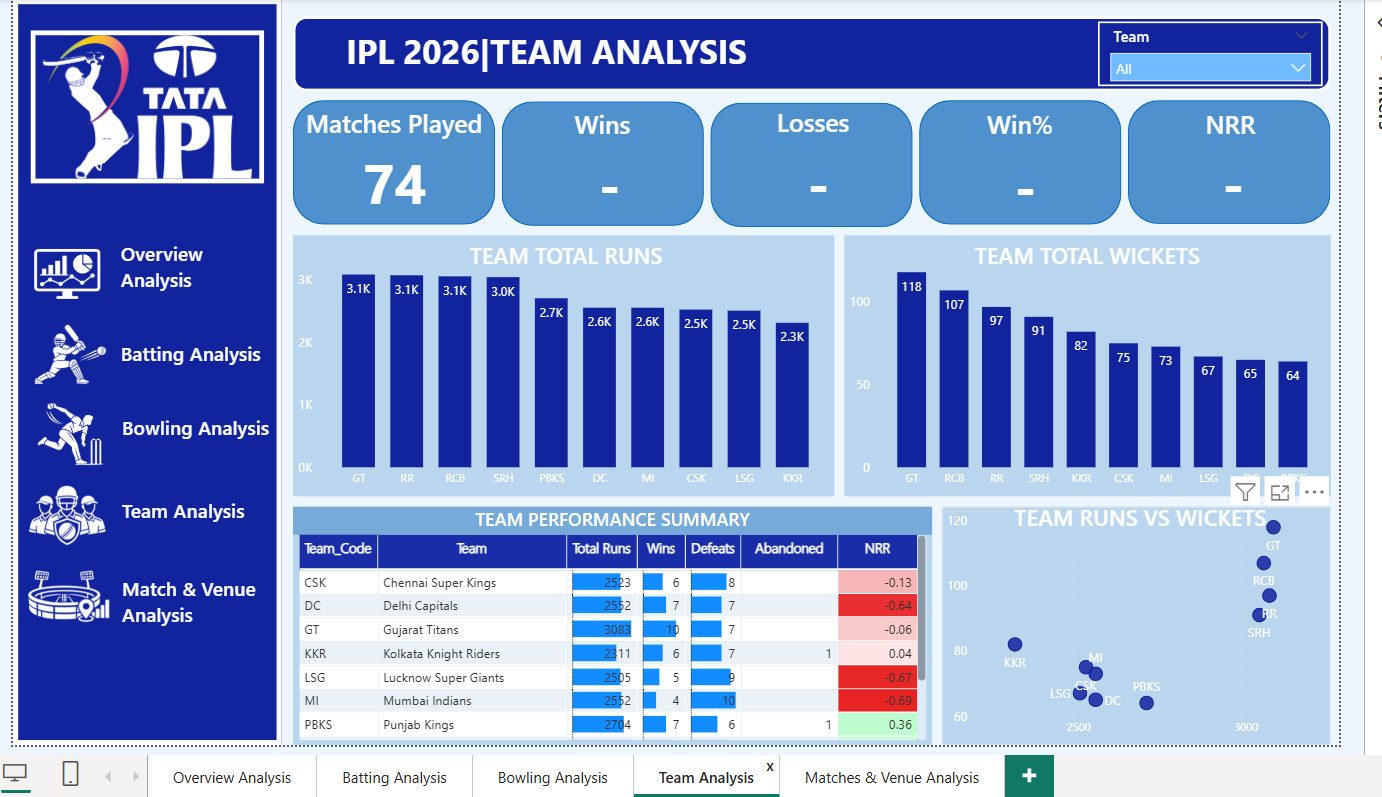

What the dashboard file says about the page in this screenshot:
{"tool":"powerbi","page":{"name":"Team Analysis","canvas":[1280,720],"ordinal":3},"visuals":[{"type":"textbox","box":[270.2,16.9,1001.3,72.4],"z":0},{"type":"shape","box":[270.2,97.7,195,120],"z":1000},{"type":"shape","box":[471.7,98.4,195,120],"z":2000},{"type":"shape","box":[673.2,99.7,195,120],"z":3000},{"type":"shape","box":[874.7,97.7,195,120],"z":4000},{"type":"card","fields":{"Values":["Measures_Table.Matches_Played"]},"box":[278.7,133.9,179.8,83.2],"z":5000},{"type":"slicer","fields":{"Values":["dim_team.team_code"]},"box":[1047.2,21.7,217.2,62.7],"z":6000},{"type":"textbox","box":[270.2,98.9,195.4,50.7],"z":7000},{"type":"card","fields":{"Values":["Measures_Table.Total_Wins"]},"box":[471.7,135.1,208.7,83.2],"z":8000},{"type":"textbox","box":[481.4,100.1,174.9,49.5],"z":9000},{"type":"card","fields":{"Values":["Measures_Table.Total_Losses"]},"box":[680.4,133.9,194.2,83.2],"z":10000},{"type":"textbox","box":[691.3,97.7,161.7,51.9],"z":11000},{"type":"card","fields":{"Values":["Measures_Table.Win%"]},"box":[868.6,137.5,217.2,82],"z":12000},{"type":"textbox","box":[896.4,100.1,150.8,49.5],"z":13000},{"type":"shape","box":[1076.1,97.7,195.4,119.4],"z":14000},{"type":"card","fields":{"Values":["Measures_Table.NRR"]},"box":[1076.1,135.1,203.9,80.8],"z":15000},{"type":"textbox","box":[1085.8,100.1,178.6,49.5],"z":16000},{"type":"clusteredColumnChart","fields":{"Y":["Measures_Table.Team Total Runs"],"Category":["dim_team.team_code"]},"box":[270.2,228,522.4,252.1],"z":17000},{"type":"columnChart","fields":{"Category":["dim_team.team_code"],"Y":["Measures_Table.Total_Wickets"]},"box":[802.3,228,469.3,252.1],"z":18000},{"type":"textbox","box":[400.5,228,266.6,45.8],"z":19000},{"type":"textbox","box":[839.7,228,394.5,45.8],"z":20000},{"type":"scatterChart","fields":{"Y":["Measures_Table.Total_Wickets"],"X":["Measures_Table.Team Total Runs"],"Category":["dim_team.team_code"]},"box":[896.4,489.8,375.2,230.4],"z":21000},{"type":"textbox","box":[896.4,480.2,383.6,44.6],"z":22000},{"type":"tableEx","title":"TEAM PERFORMANCE SUMMARY","fields":{"Values":["dim_team.team_code","dim_team.team_name","Measures_Table.Team Total Runs","Measures_Table.Team Wins","Measures_Table.Team Losses","Measures_Table.Team Abandoned","Measures_Table.NRR"]},"box":[270.2,489.8,616.5,230.4],"z":23000},{"type":"shape","box":[0,0,259.4,720.2],"z":24000},{"type":"image","box":[16.9,30.2,225.6,148.4],"z":25000},{"type":"image","box":[6,228.5,92.9,72.4],"z":26000},{"type":"image","box":[7.2,306.3,92.9,72.4],"z":27000},{"type":"image","box":[8.4,384.1,92.9,72.4],"z":28000},{"type":"image","box":[6,461.9,92.9,72.4],"z":29000},{"type":"image","box":[6,539.5,92.9,72.4],"z":30000},{"type":"textbox","box":[98.9,228,160.5,60.3],"z":31000},{"type":"textbox","box":[98.9,324.5,181,44.6],"z":32000},{"type":"textbox","box":[100.1,395.7,179.8,45.8],"z":33000},{"type":"textbox","box":[100.1,476.5,179.8,48.3],"z":34000},{"type":"textbox","box":[100.1,551.3,190.6,60.3],"z":35000}]}

Visuals, with their boxes on the page's 1280x720 design canvas (x1, y1, x2, y2). These are canvas units, not pixel positions in the 1382x797 screenshot, which may show the page scaled, cropped or inside an application window:
textbox: left=270, top=17, right=1272, bottom=89
shape: left=270, top=98, right=465, bottom=218
shape: left=472, top=98, right=667, bottom=218
shape: left=673, top=100, right=868, bottom=220
shape: left=875, top=98, right=1070, bottom=218
card - Measures_Table.Matches_Played: left=279, top=134, right=458, bottom=217
slicer - dim_team.team_code: left=1047, top=22, right=1264, bottom=84
textbox: left=270, top=99, right=466, bottom=150
card - Measures_Table.Total_Wins: left=472, top=135, right=680, bottom=218
textbox: left=481, top=100, right=656, bottom=150
card - Measures_Table.Total_Losses: left=680, top=134, right=875, bottom=217
textbox: left=691, top=98, right=853, bottom=150
card - Measures_Table.Win%: left=869, top=138, right=1086, bottom=220
textbox: left=896, top=100, right=1047, bottom=150
shape: left=1076, top=98, right=1272, bottom=217
card - Measures_Table.NRR: left=1076, top=135, right=1280, bottom=216
textbox: left=1086, top=100, right=1264, bottom=150
clusteredColumnChart - Measures_Table.Team Total Runs x dim_team.team_code: left=270, top=228, right=793, bottom=480
columnChart - dim_team.team_code x Measures_Table.Total_Wickets: left=802, top=228, right=1272, bottom=480
textbox: left=400, top=228, right=667, bottom=274
textbox: left=840, top=228, right=1234, bottom=274
scatterChart - Measures_Table.Total_Wickets x Measures_Table.Team Total Runs: left=896, top=490, right=1272, bottom=720
textbox: left=896, top=480, right=1280, bottom=525
"TEAM PERFORMANCE SUMMARY" tableEx: left=270, top=490, right=887, bottom=720
shape: left=0, top=0, right=259, bottom=720
image: left=17, top=30, right=242, bottom=179
image: left=6, top=228, right=99, bottom=301
image: left=7, top=306, right=100, bottom=379
image: left=8, top=384, right=101, bottom=456
image: left=6, top=462, right=99, bottom=534
image: left=6, top=540, right=99, bottom=612
textbox: left=99, top=228, right=259, bottom=288
textbox: left=99, top=324, right=280, bottom=369
textbox: left=100, top=396, right=280, bottom=442
textbox: left=100, top=476, right=280, bottom=525
textbox: left=100, top=551, right=291, bottom=612
